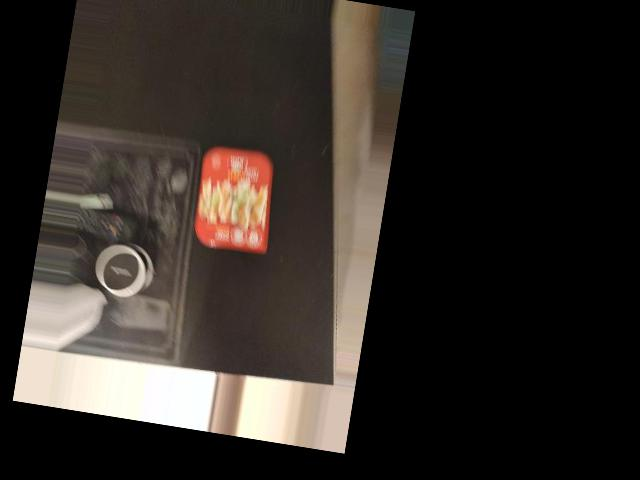cheese: (180, 139, 287, 260)
